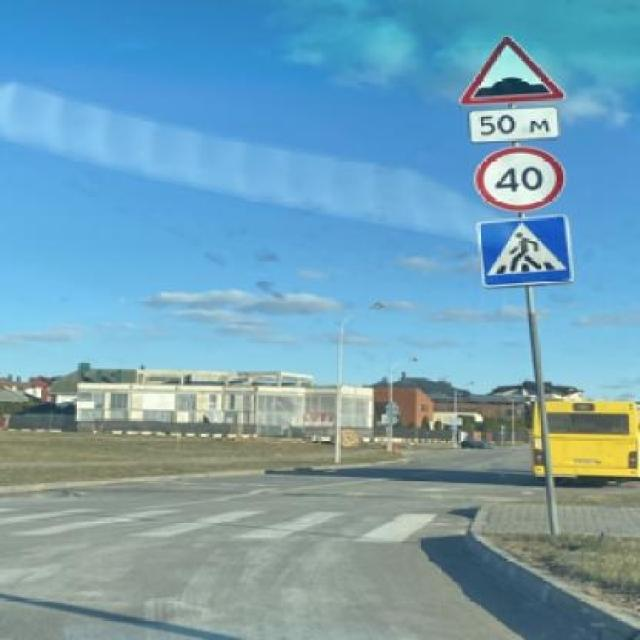forb_speed_over_40: (479, 148, 563, 211)
